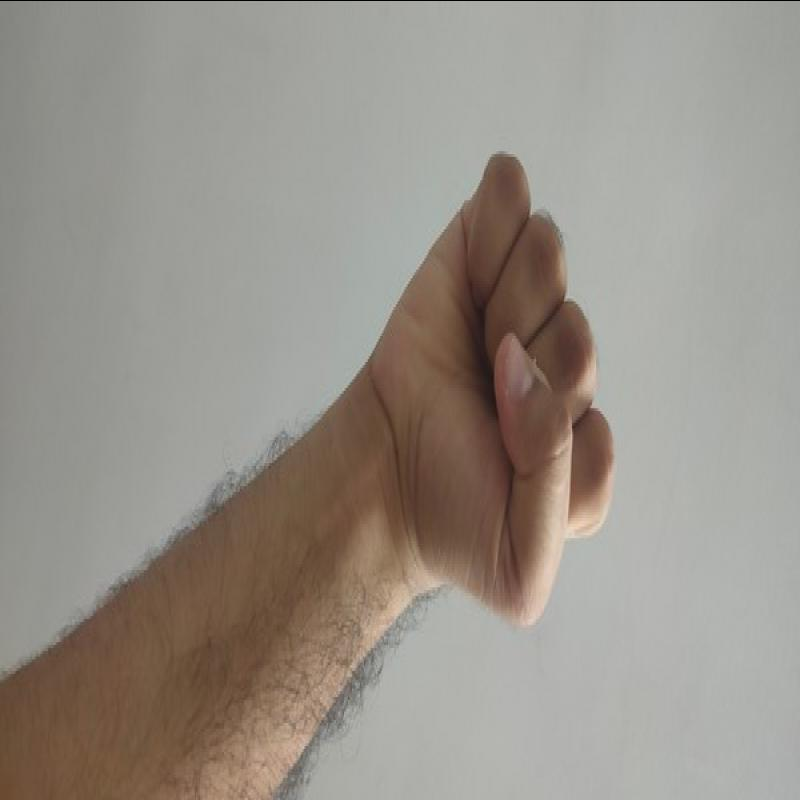Mushti: (370, 136, 635, 646)
